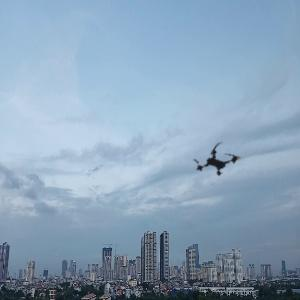drone: (175, 121, 260, 206)
